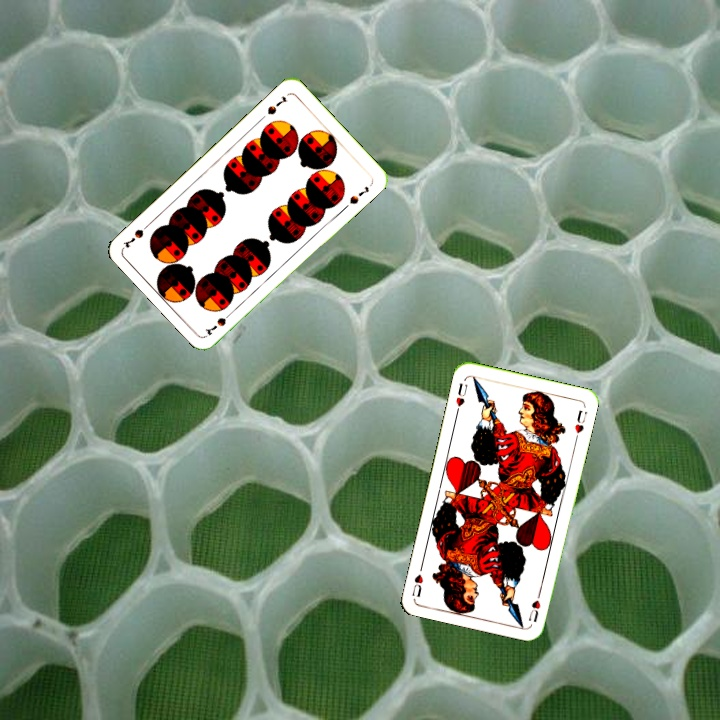HU: (524, 586, 544, 625), (452, 379, 470, 409)
S7: (201, 307, 236, 338), (263, 92, 290, 117)
